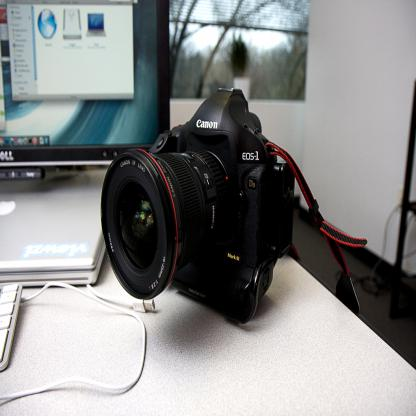Camera: (90, 79, 305, 288)
